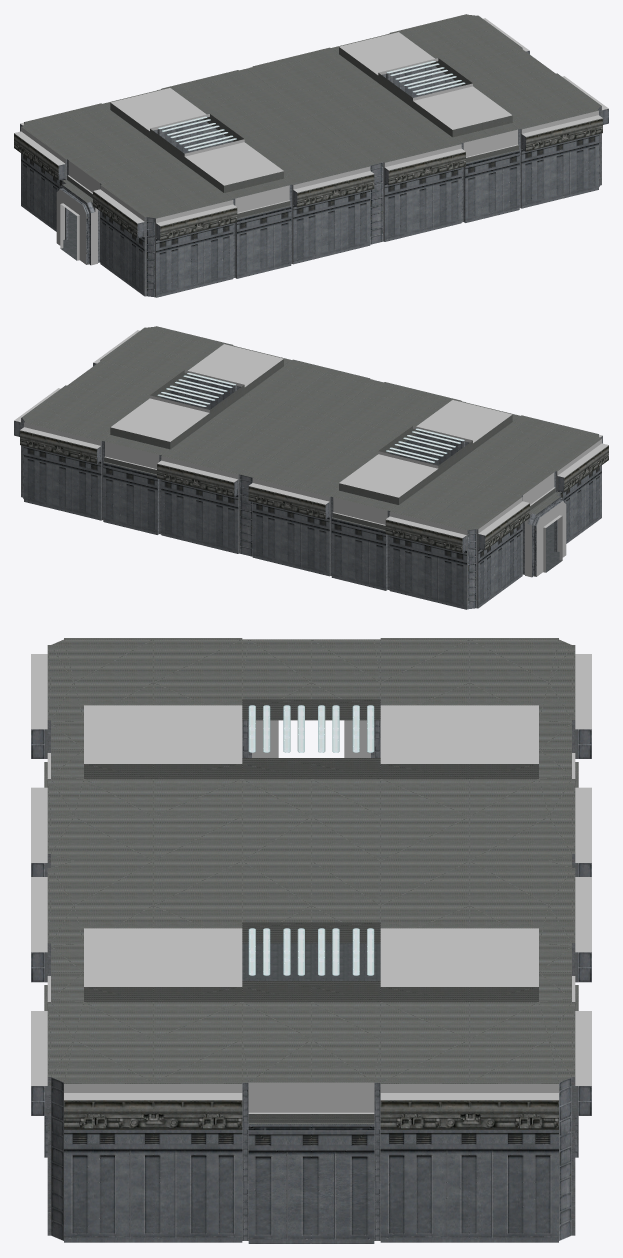
File: poi_all_impl_bunker_research_facility_s01_r12_cell2_mesh.fbx
3 views of the same model, one above another, from view 1: azimuth 30°, elevation 25°; view 2: azimuth 150°, elevation 25°; view 3: azimuth 270°, elevation 25° (orthographic). The views are drawn at different scales.
Visible parts, largest first — view 1: mesh_node; view 2: mesh_node; view 3: mesh_node.
Part boxes in pixels (x1,y1,x2,y2): mesh_node: (14,14,608,297); mesh_node: (14,326,608,609); mesh_node: (31,638,591,1243).
Bounding box in the file's own units: 33.5 × 6 × 17.
